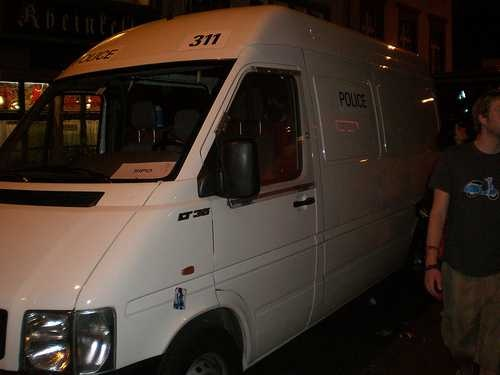Police Van: (11, 16, 447, 375)
